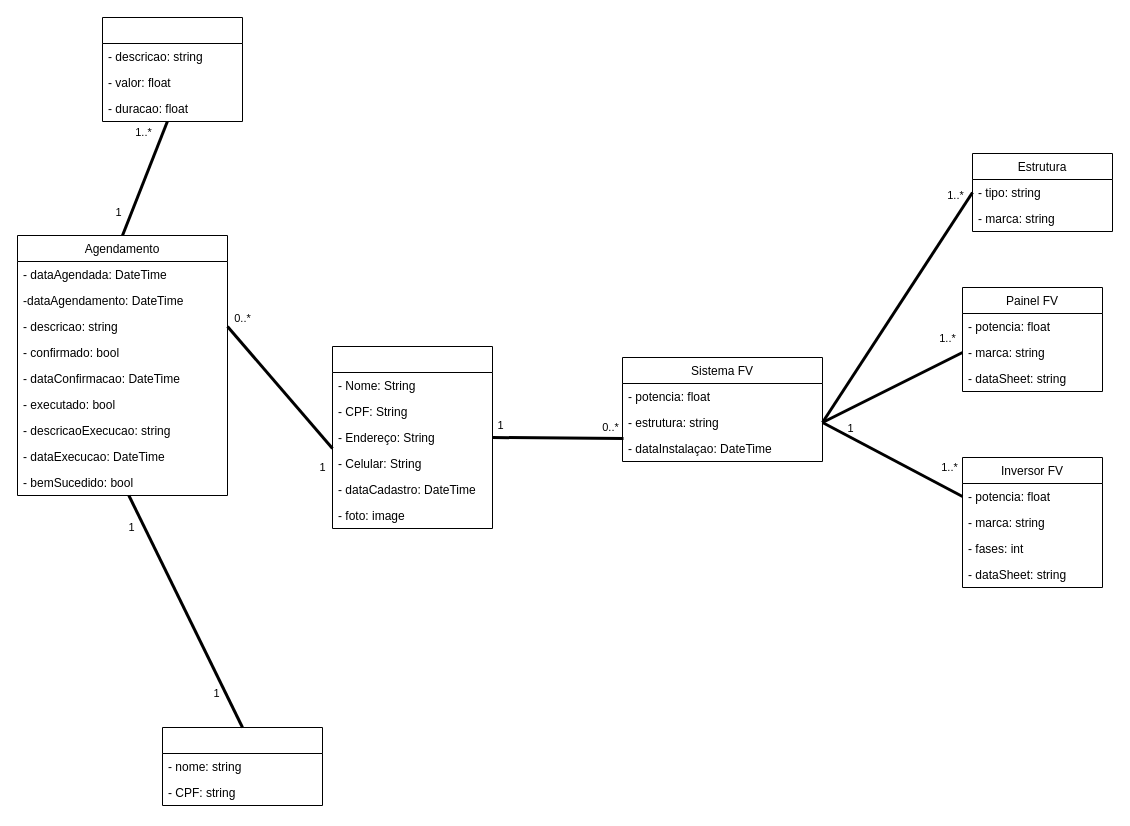
Some shapes in this 1130 by 826 pixel diagram are drawn without their labels. The box of each missing label's shape, as (x1, y1, x2, y2) in pixels:
Cliente: (332, 346, 492, 528)
Funcionario: (162, 726, 322, 806)
Servico: (102, 16, 242, 122)
